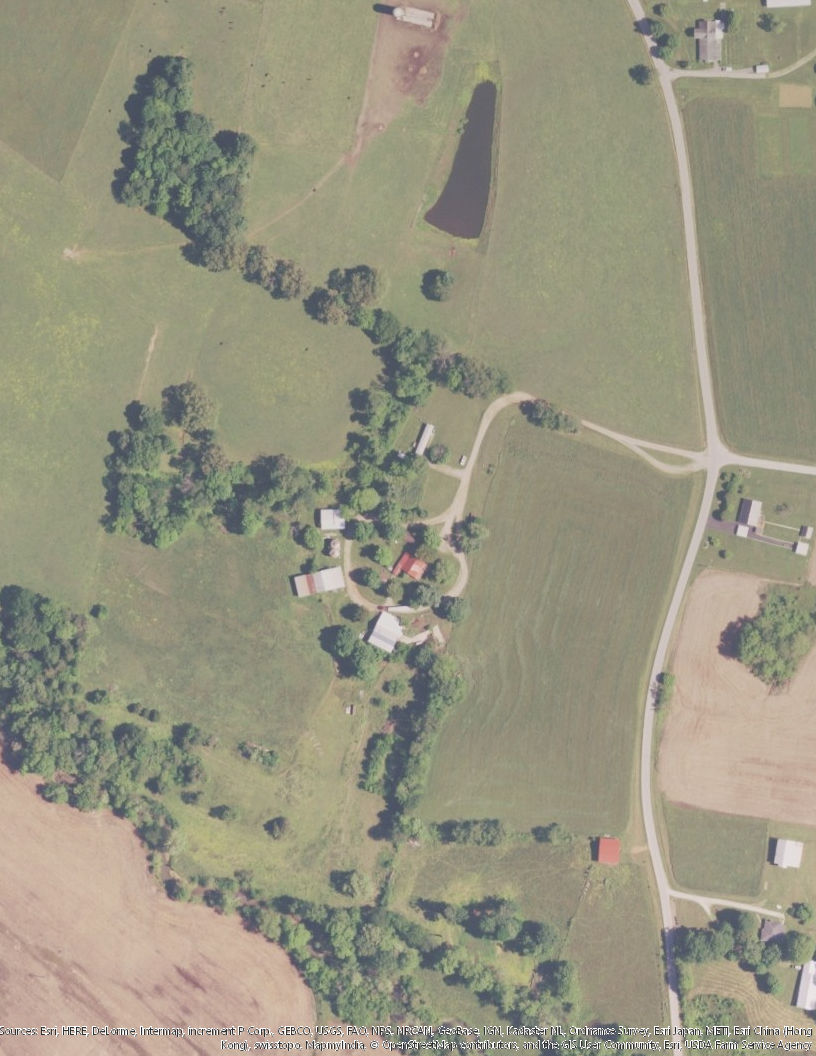cafo: (288, 563, 352, 597), (413, 422, 436, 459)
